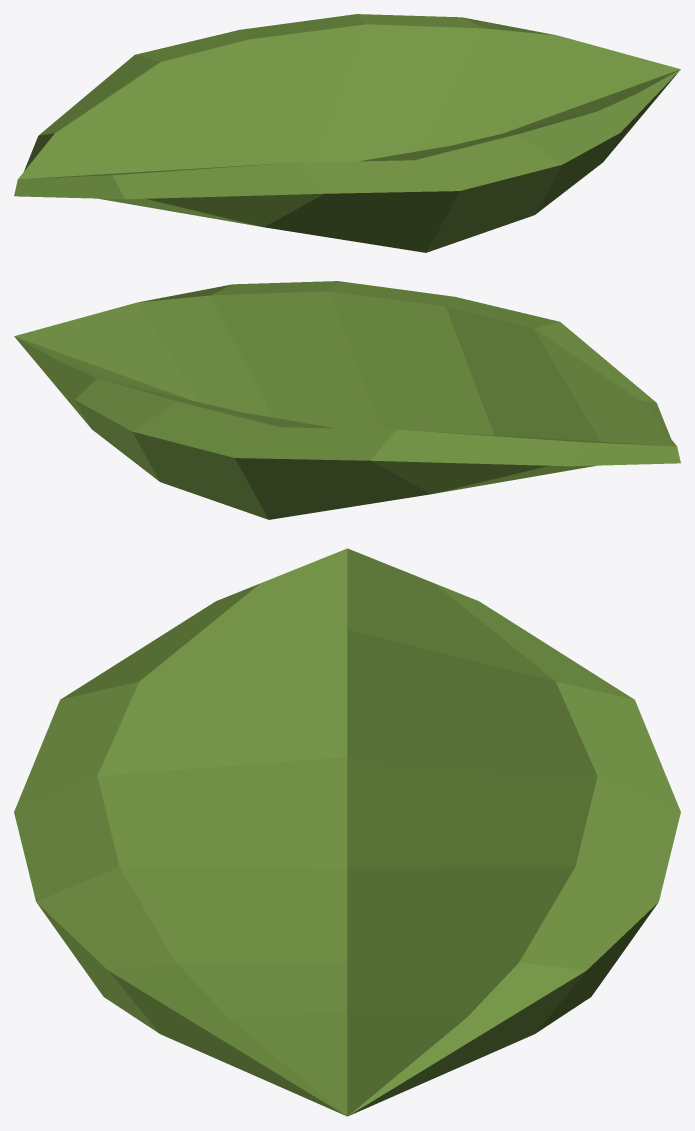
Rendered from single-green-leaf.fbx.
3 renders of one model, top to bottom at view 1: azimuth 30°, elevation 25°; view 2: azimuth 150°, elevation 25°; view 3: azimuth 270°, elevation 25°, orthographic. The views are drawn at different scales.
Visible parts, largest first — view 1: Cube; view 2: Cube; view 3: Cube.
Boxes of the visible parts, bbox=[...] form: Cube: bbox=[14, 14, 680, 252]; Cube: bbox=[14, 281, 680, 519]; Cube: bbox=[14, 548, 680, 1116].
Size of the model in its own units: 440 by 81.46 by 252.
